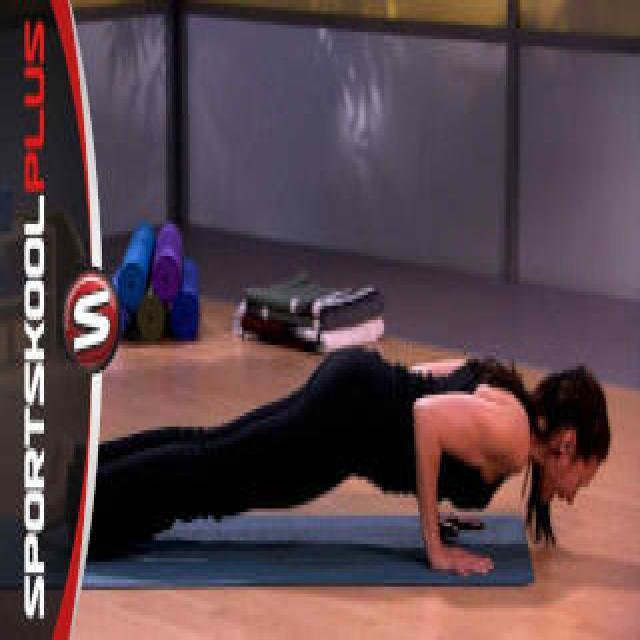yoga-pose plank: (98, 352, 608, 576)
